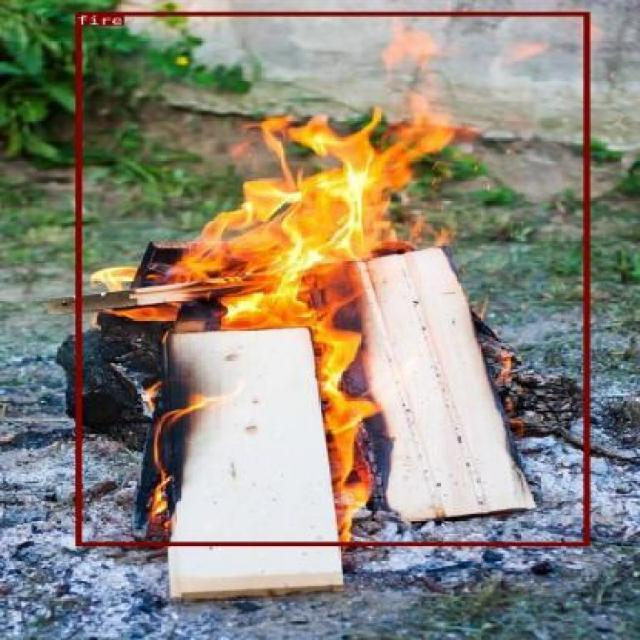Fire: (332, 278, 514, 534)
